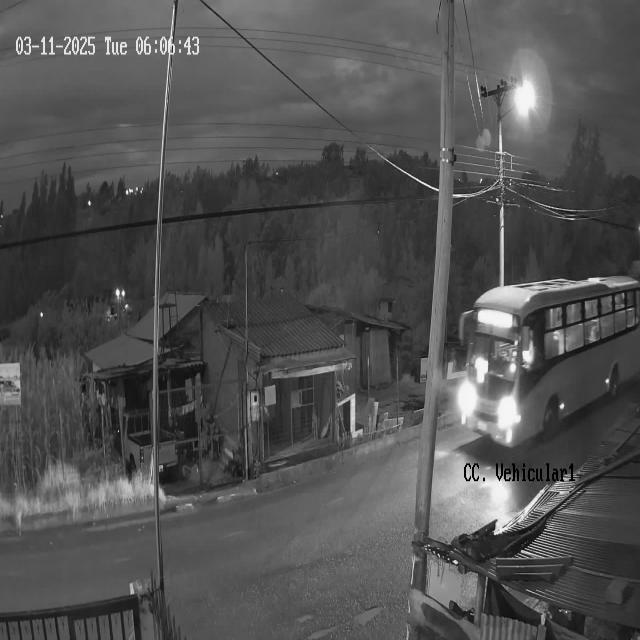BUS: (460, 274, 640, 450)
